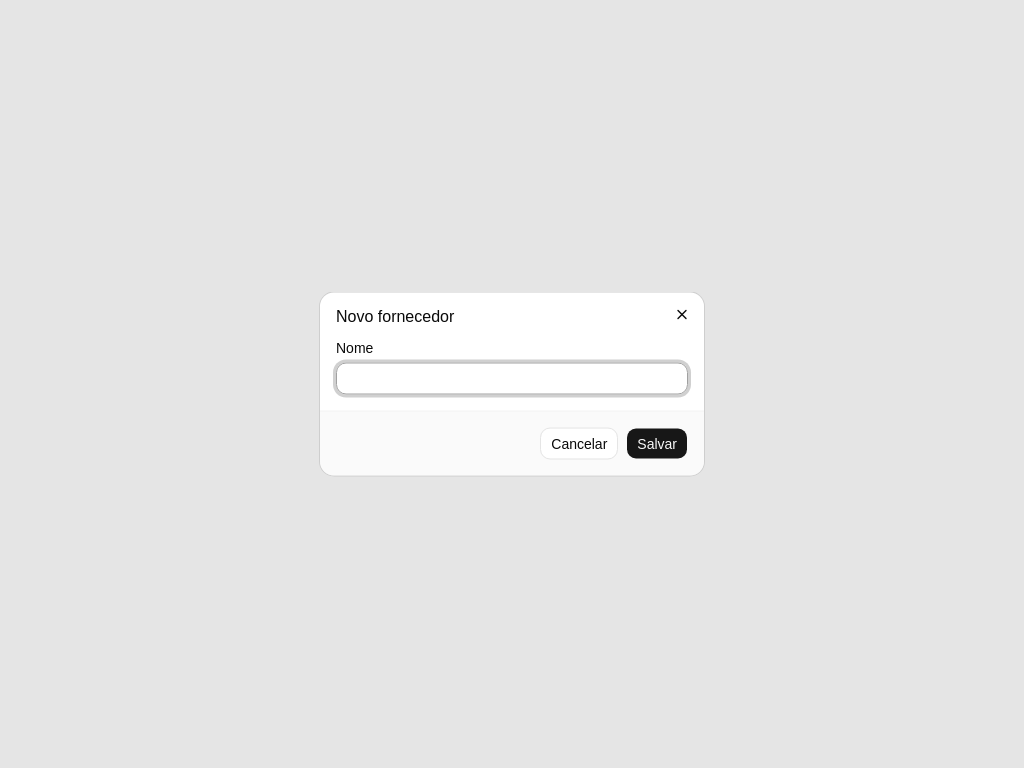
Test: SupplierDialog › says the name is taken, in Portuguese, and keeps the dialog open
In the field labelled "Nome": (512, 378) [336,362,688,394], type "Moinho Santa Clara"
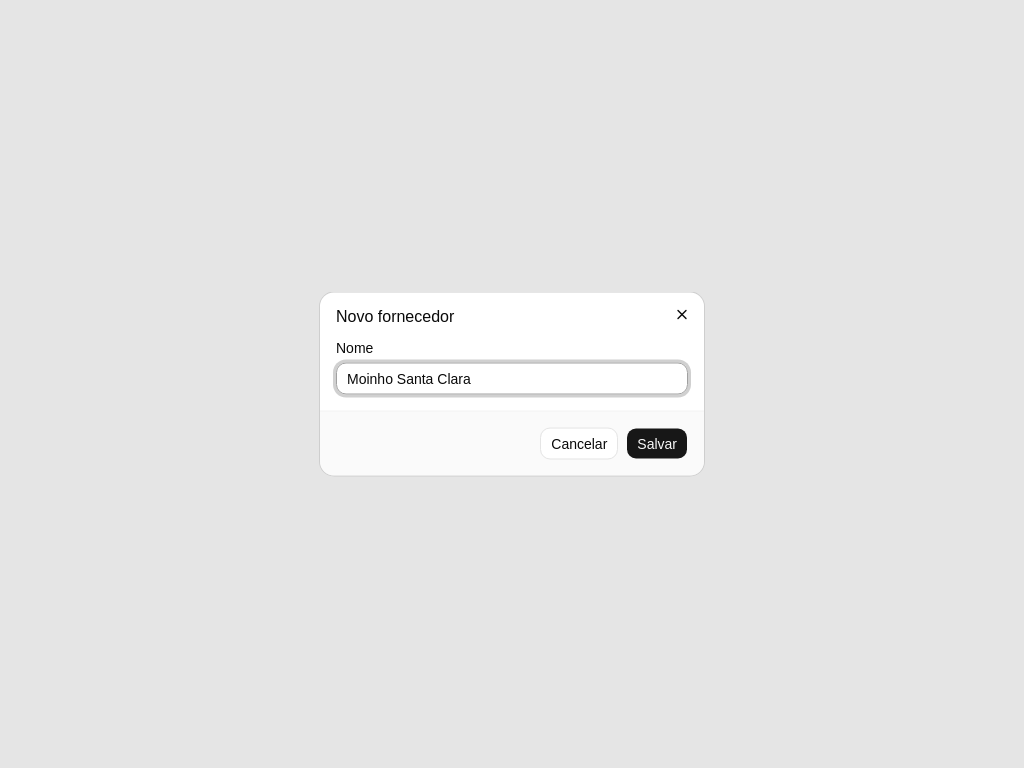
Click the button "Salvar": (657, 444) [626,428,688,460]
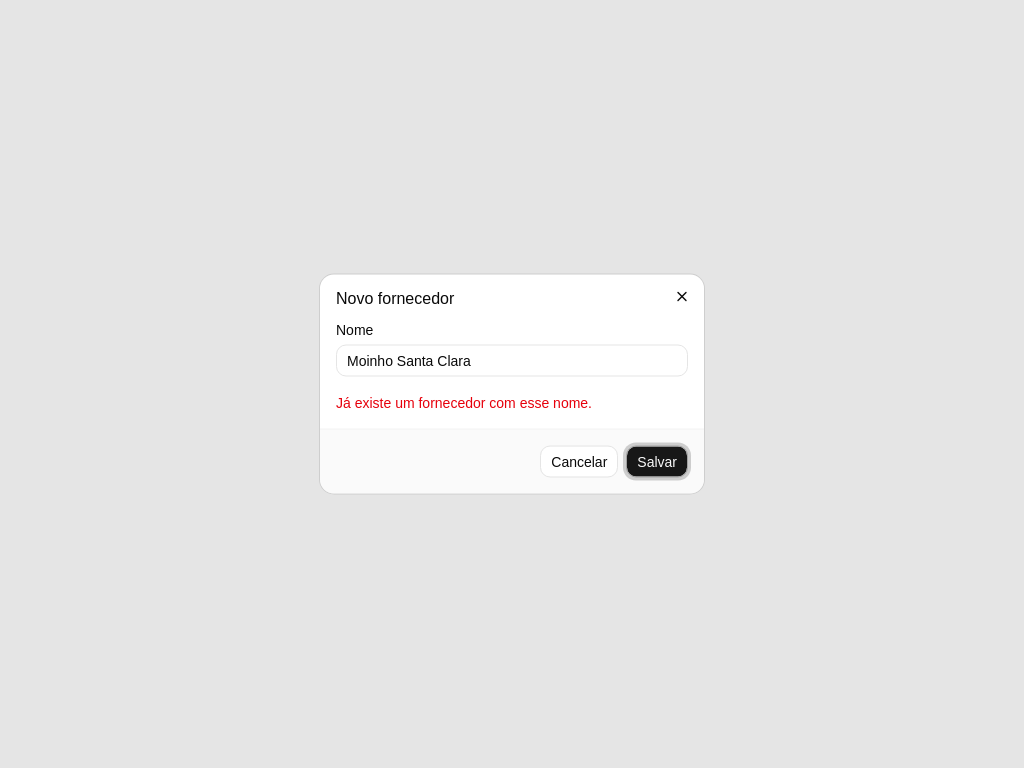
Check: the message reads "Já existe um fornecedor com esse nome.", box [336,394,592,410]
